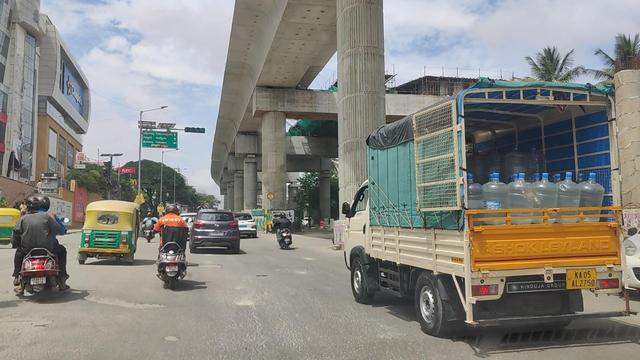HMV: (340, 90, 630, 347)
LMV: (24, 186, 71, 284), (84, 203, 138, 258), (154, 199, 186, 287)
RoadDamages: (81, 288, 168, 317)
